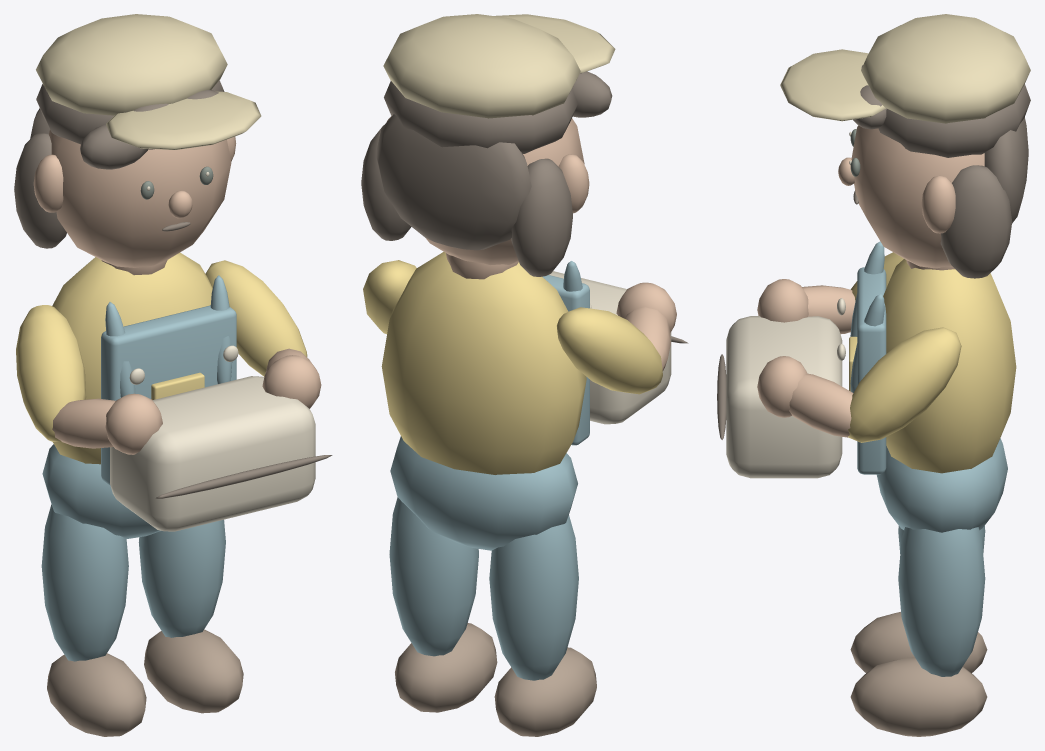
The model's file is ani-carry.glb.
The picture shows the model from 3 angles, left to right: view 1: azimuth 30°, elevation 25°; view 2: azimuth 150°, elevation 25°; view 3: azimuth 270°, elevation 25°; orthographic projection. The views are drawn at different scales.
Visible parts, largest first — view 1: Supply parcel.001, Head.004, Cap crown.001, Trouser leg.008, Padded shirt.004, Overall bib.004, Trouser leg.009, Shirt sleeve.008, Rounded boot.008, Rounded boot.009, Cap bill.001, Shirt sleeve.009 (+13 smaller); view 2: Padded shirt.004, Cap crown.001, Hair back.004, Soft trouser seat.004, Trouser leg.008, Trouser leg.009, Shirt sleeve.008, Hair crown.004, Rounded boot.008, Rounded boot.009, Rounded bob.002, Supply parcel.001 (+10 smaller); view 3: Padded shirt.004, Cap crown.001, Supply parcel.001, Trouser leg.009, Head.004, Shirt sleeve.009, Rounded boot.009, Soft trouser seat.004, Rounded bob.003, Cap bill.001, Hair crown.004, Overall bib.004 (+11 smaller).
Boxes of the visible parts, bbox=[...] form: Supply parcel.001: bbox=[110, 376, 315, 531]; Head.004: bbox=[49, 130, 231, 267]; Cap crown.001: bbox=[36, 14, 227, 115]; Trouser leg.008: bbox=[41, 504, 128, 661]; Padded shirt.004: bbox=[52, 252, 212, 464]; Overall bib.004: bbox=[101, 305, 236, 485]; Trouser leg.009: bbox=[138, 519, 225, 637]; Shirt sleeve.008: bbox=[16, 305, 86, 441]; Rounded boot.008: bbox=[47, 653, 146, 736]; Rounded boot.009: bbox=[144, 629, 243, 713]; Cap bill.001: bbox=[106, 91, 261, 149]; Shirt sleeve.009: bbox=[205, 260, 307, 376]; Padded shirt.004: bbox=[381, 252, 586, 474]; Cap crown.001: bbox=[383, 14, 580, 118]; Hair back.004: bbox=[376, 114, 531, 250]; Soft trouser seat.004: bbox=[390, 436, 577, 550]; Trouser leg.008: bbox=[489, 515, 578, 680]; Trouser leg.009: bbox=[389, 497, 478, 656]; Shirt sleeve.008: bbox=[557, 307, 662, 394]; Hair crown.004: bbox=[384, 81, 578, 153]; Rounded boot.008: bbox=[494, 647, 596, 736]; Rounded boot.009: bbox=[395, 623, 497, 712]; Rounded bob.002: bbox=[511, 158, 572, 276]; Supply parcel.001: bbox=[549, 271, 671, 424]; Padded shirt.004: bbox=[883, 259, 1016, 473]; Cap crown.001: bbox=[861, 14, 1030, 123]; Supply parcel.001: bbox=[726, 316, 842, 478]; Trouser leg.009: bbox=[898, 527, 985, 676]; Head.004: bbox=[851, 125, 984, 268]; Shirt sleeve.009: bbox=[848, 327, 961, 442]; Rounded boot.009: bbox=[850, 657, 987, 736]; Soft trouser seat.004: bbox=[877, 438, 1007, 532]; Rounded bob.003: bbox=[940, 165, 1012, 278]; Cap bill.001: bbox=[780, 49, 885, 121]; Hair crown.004: bbox=[878, 84, 1030, 157]; Overall bib.004: bbox=[857, 267, 886, 474].
Bounding box in the file's own units: 0.6607 × 1.58 × 0.6662.
